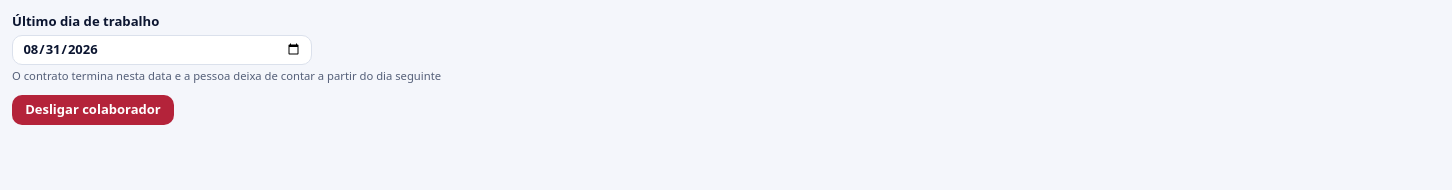
Test: PainelDesligamento › pede confirmação antes de desligar e só então chama o banco
Later steps or results of the test are not shown.
What coordinates should you click on to do the following:
click the button "Desligar colaborador"
I would click on:
 (93, 110)
Its box is [12,94,174,124].
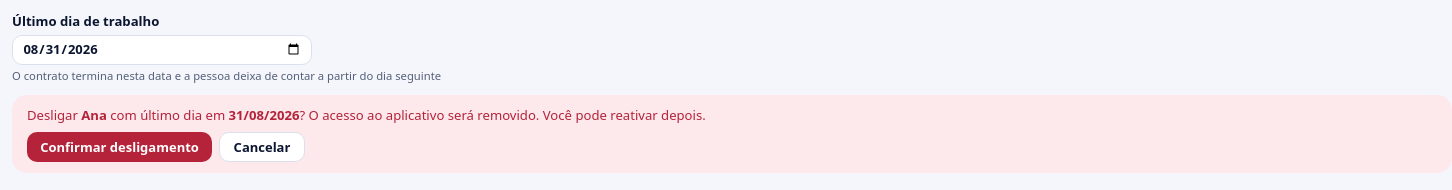
Check: the message shows "31/08/2026", box [229,106,299,124]
